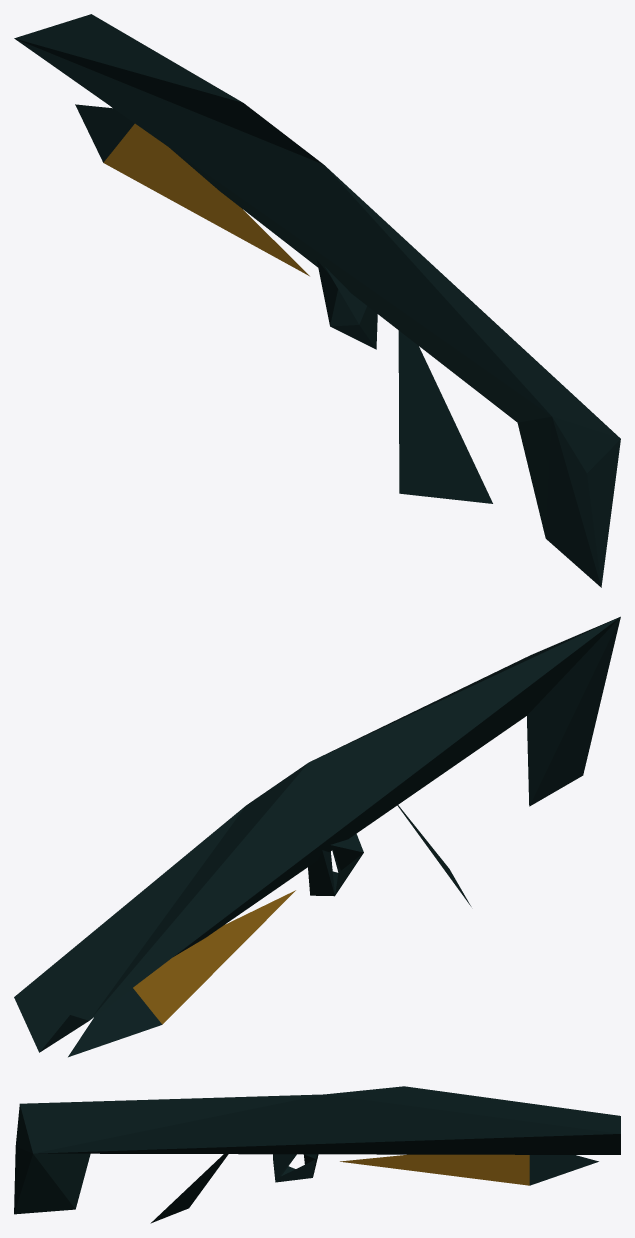
The model's file is Cybergun_lowploly_LOD0_mouchtron.fbx.
The picture shows the model from 3 angles, top to bottom: view 1: azimuth 30°, elevation 25°; view 2: azimuth 150°, elevation 25°; view 3: azimuth 270°, elevation 25°; orthographic projection. The views are drawn at different scales.
Visible parts, largest first — view 1: Circle; view 2: Circle; view 3: Circle.
Boxes of the visible parts, x1=… form: Circle: x1=14, y1=14, x2=620, y2=587; Circle: x1=14, y1=616, x2=620, y2=1057; Circle: x1=14, y1=1086, x2=620, y2=1223.
Size of the model in its own units: 208 by 582 by 2415.
